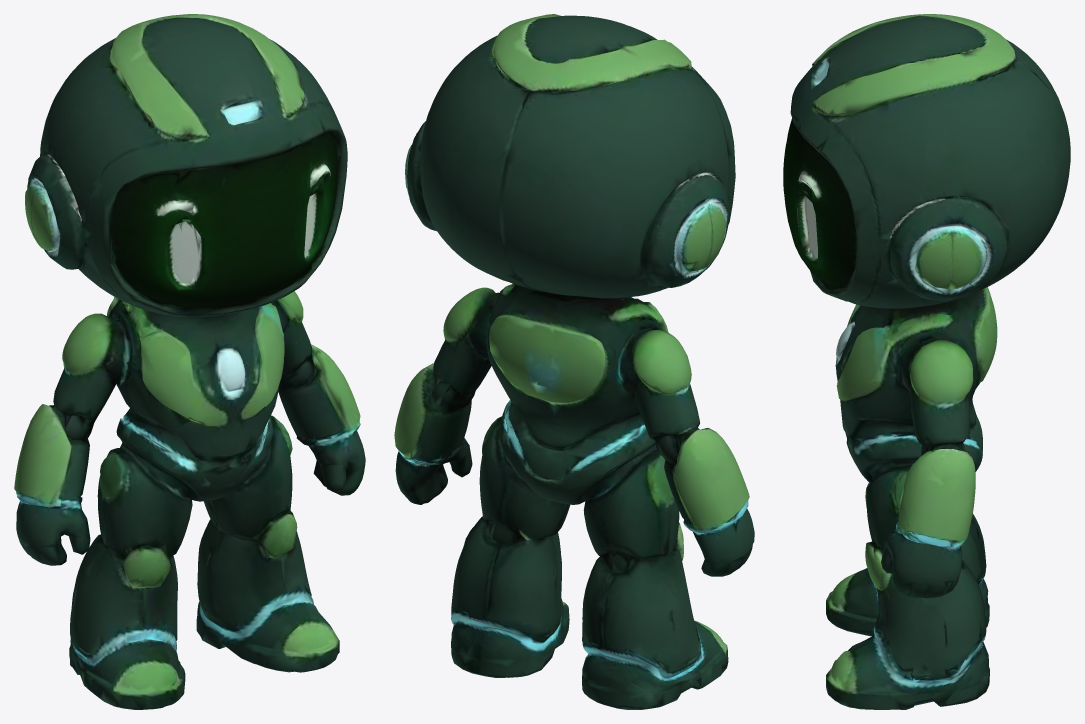
Rendered from avatar-verdejante.glb.
3 renders of one model, left to right at view 1: azimuth 30°, elevation 25°; view 2: azimuth 150°, elevation 25°; view 3: azimuth 270°, elevation 25°, orthographic. The views are drawn at different scales.
Parts seen in each view (by area): view 1: tripo_node_f6300eec-16ca-421d-ac28-84319d5b8899; view 2: tripo_node_f6300eec-16ca-421d-ac28-84319d5b8899; view 3: tripo_node_f6300eec-16ca-421d-ac28-84319d5b8899.
Boxes of the visible parts, box(x1,y1,x2,y2) form: tripo_node_f6300eec-16ca-421d-ac28-84319d5b8899: box(14, 14, 365, 709); tripo_node_f6300eec-16ca-421d-ac28-84319d5b8899: box(394, 14, 754, 709); tripo_node_f6300eec-16ca-421d-ac28-84319d5b8899: box(783, 14, 1070, 709).
Bounding box in the file's own units: 0.5648 × 1 × 0.4177.
Materials: 1 (1 with a texture image).
